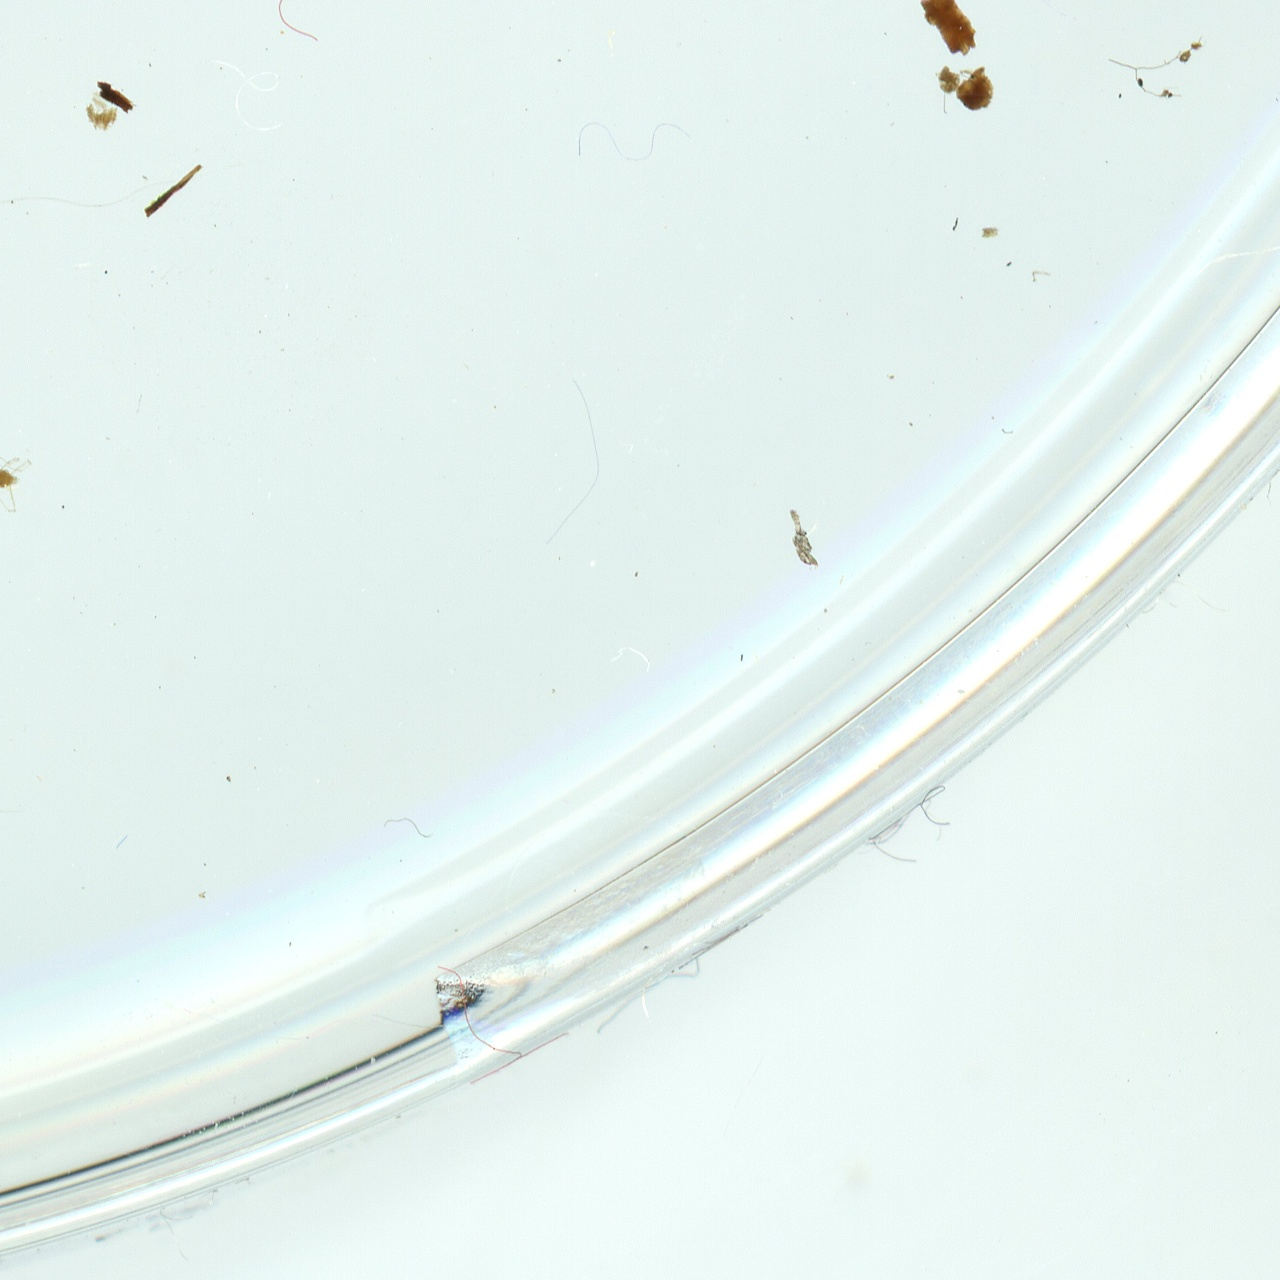arthropod: (0, 438, 36, 517)
